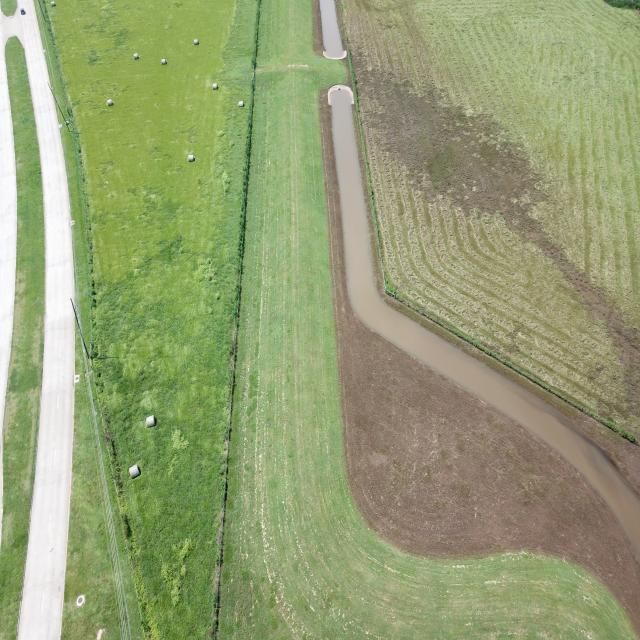fire: (328, 84, 640, 560), (319, 0, 344, 57)
